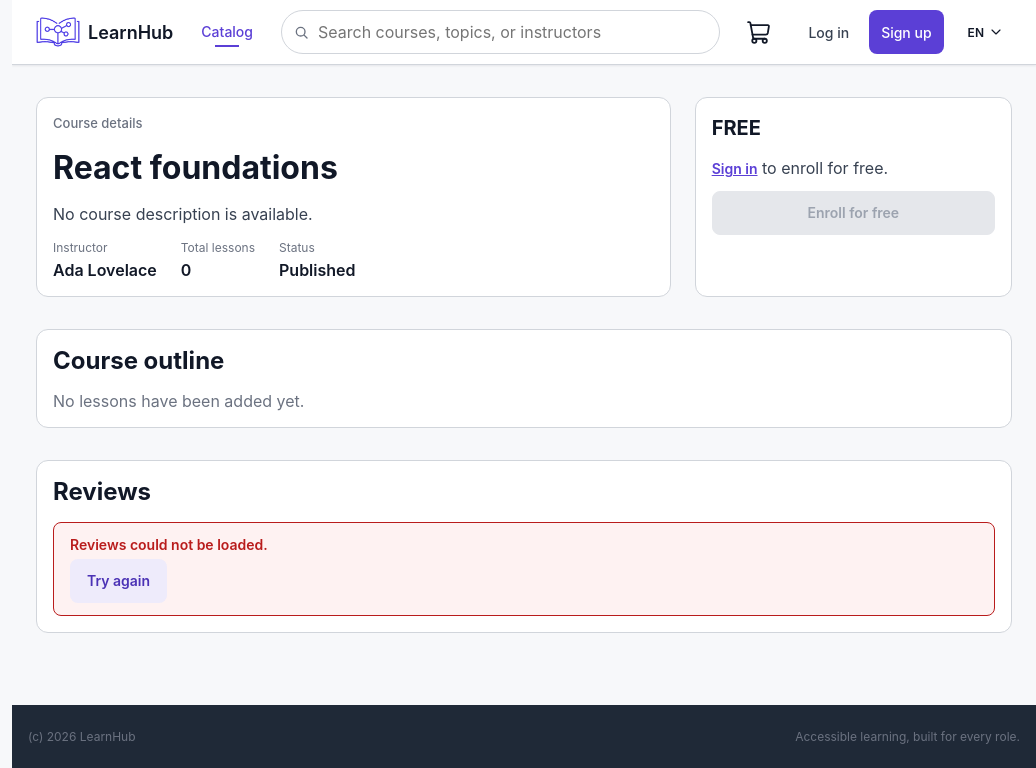
application routing and guards › composes PAGE-002 and preserves its safe login return target
Click the link "Sign in" at (735, 168), box [712, 160, 758, 177]
(page scrolled)
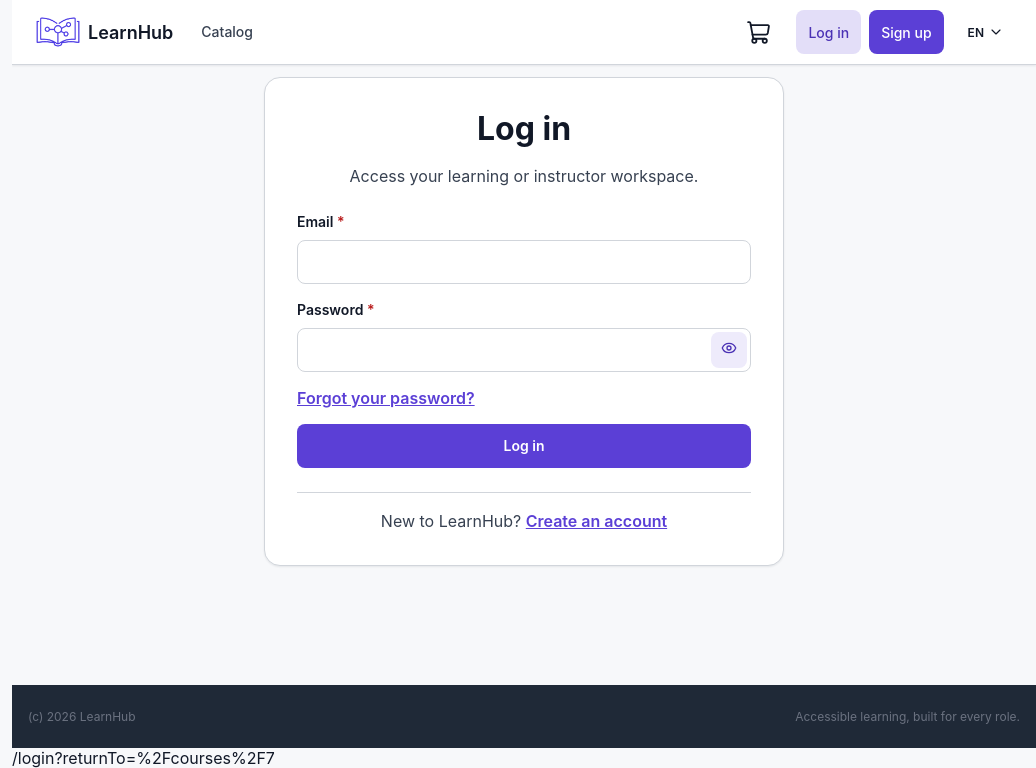
Now the heading "Log in" is shown, box [477, 109, 571, 148]
Now the text named "current location" reads "/login?returnTo=%2Fcourses%2F7", box [12, 748, 275, 767]
